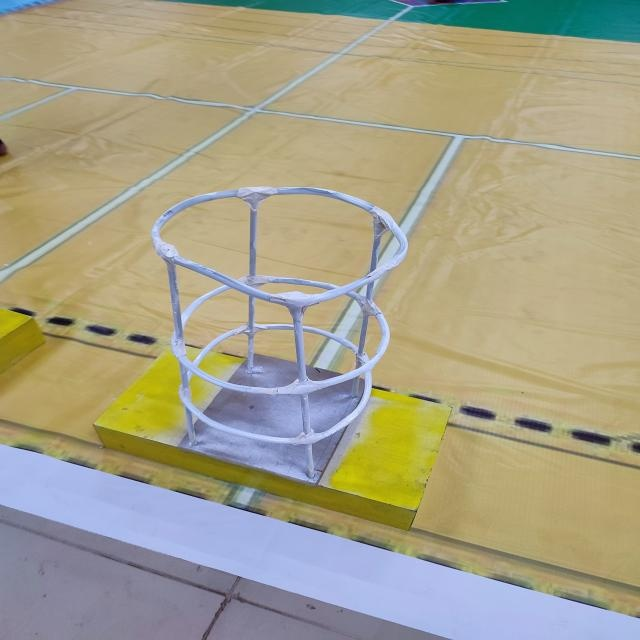silo: (118, 170, 440, 512)
